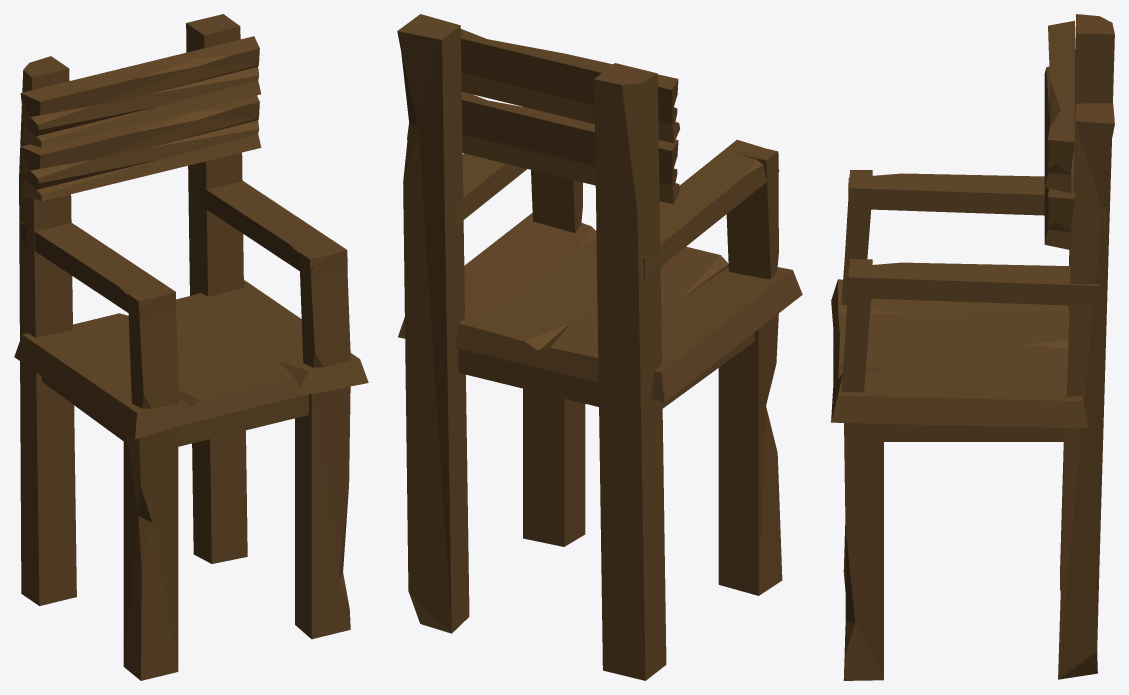
The model's file is chair.fbx.
3 renders of one model, left to right at view 1: azimuth 30°, elevation 25°; view 2: azimuth 150°, elevation 25°; view 3: azimuth 270°, elevation 25°, orthographic. The views are drawn at different scales.
Visible parts, largest first — view 1: chair; view 2: chair; view 3: chair.
Part boxes in pixels (<box>): chair: <box>14,14,368,680</box>; chair: <box>397,14,802,680</box>; chair: <box>831,14,1114,680</box>.
Size of the model in its own units: 93.46 by 201 by 92.25.
